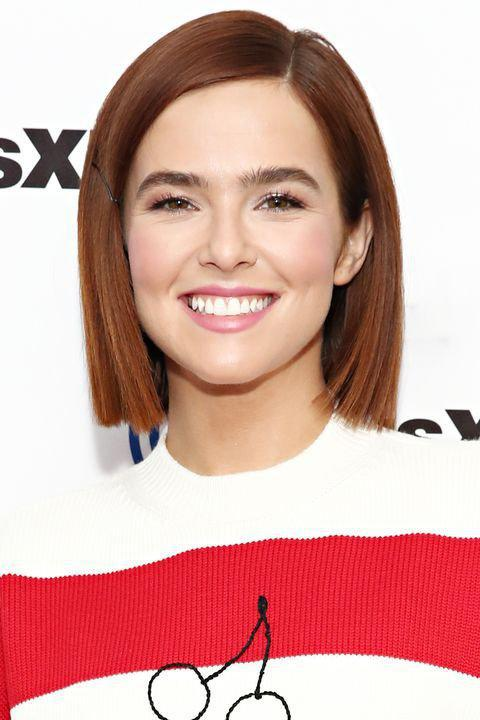Sober: (129, 99, 338, 386)
